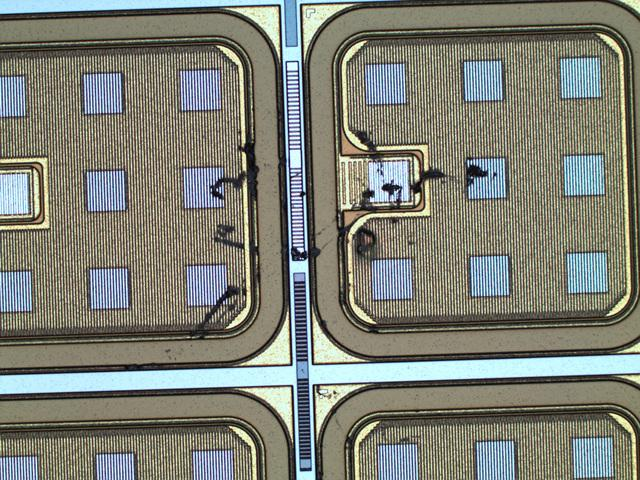SCRATCH: (155, 116, 506, 373)
